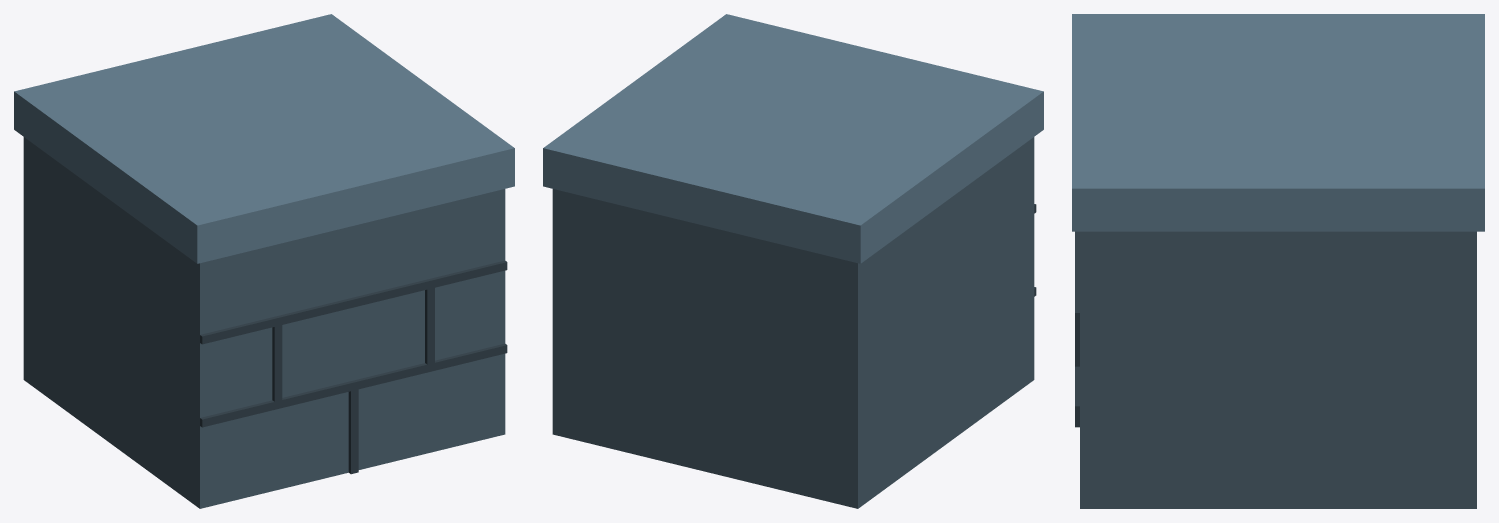
The model's file is k_meadow_wall.glb.
3 renders of one model, left to right at view 1: azimuth 30°, elevation 25°; view 2: azimuth 150°, elevation 25°; view 3: azimuth 270°, elevation 25°, orthographic. The views are drawn at different scales.
Parts seen in each view (by area): view 1: piece; view 2: piece; view 3: piece.
Boxes of the visible parts, box(x1,y1,x2,y2) form: piece: box(14, 14, 514, 508); piece: box(543, 14, 1043, 508); piece: box(1072, 14, 1484, 508).
Size of the model in its own units: 1.04 by 0.9 by 1.04.
